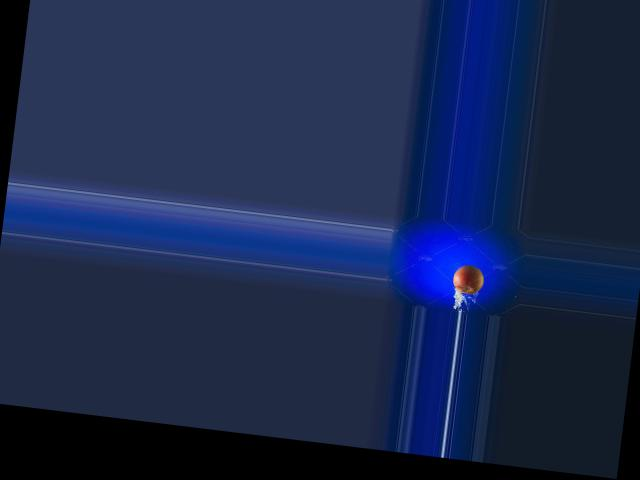tomato: (452, 264, 486, 295)
